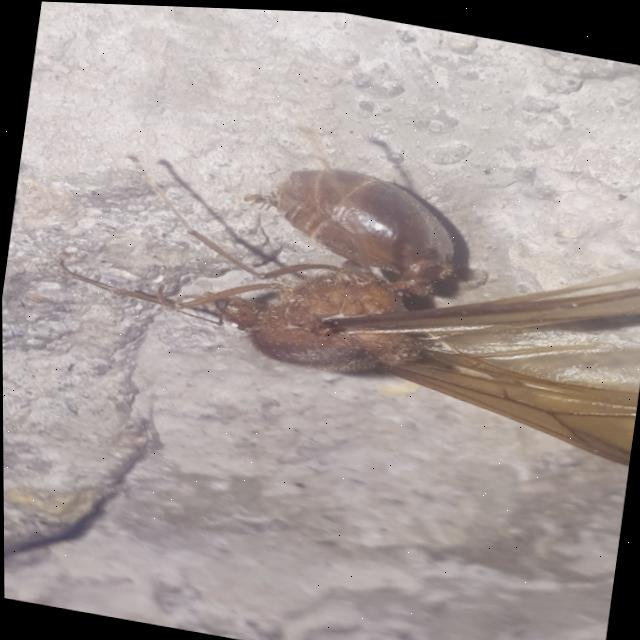Dead-Male-Alate: (37, 83, 640, 463)
